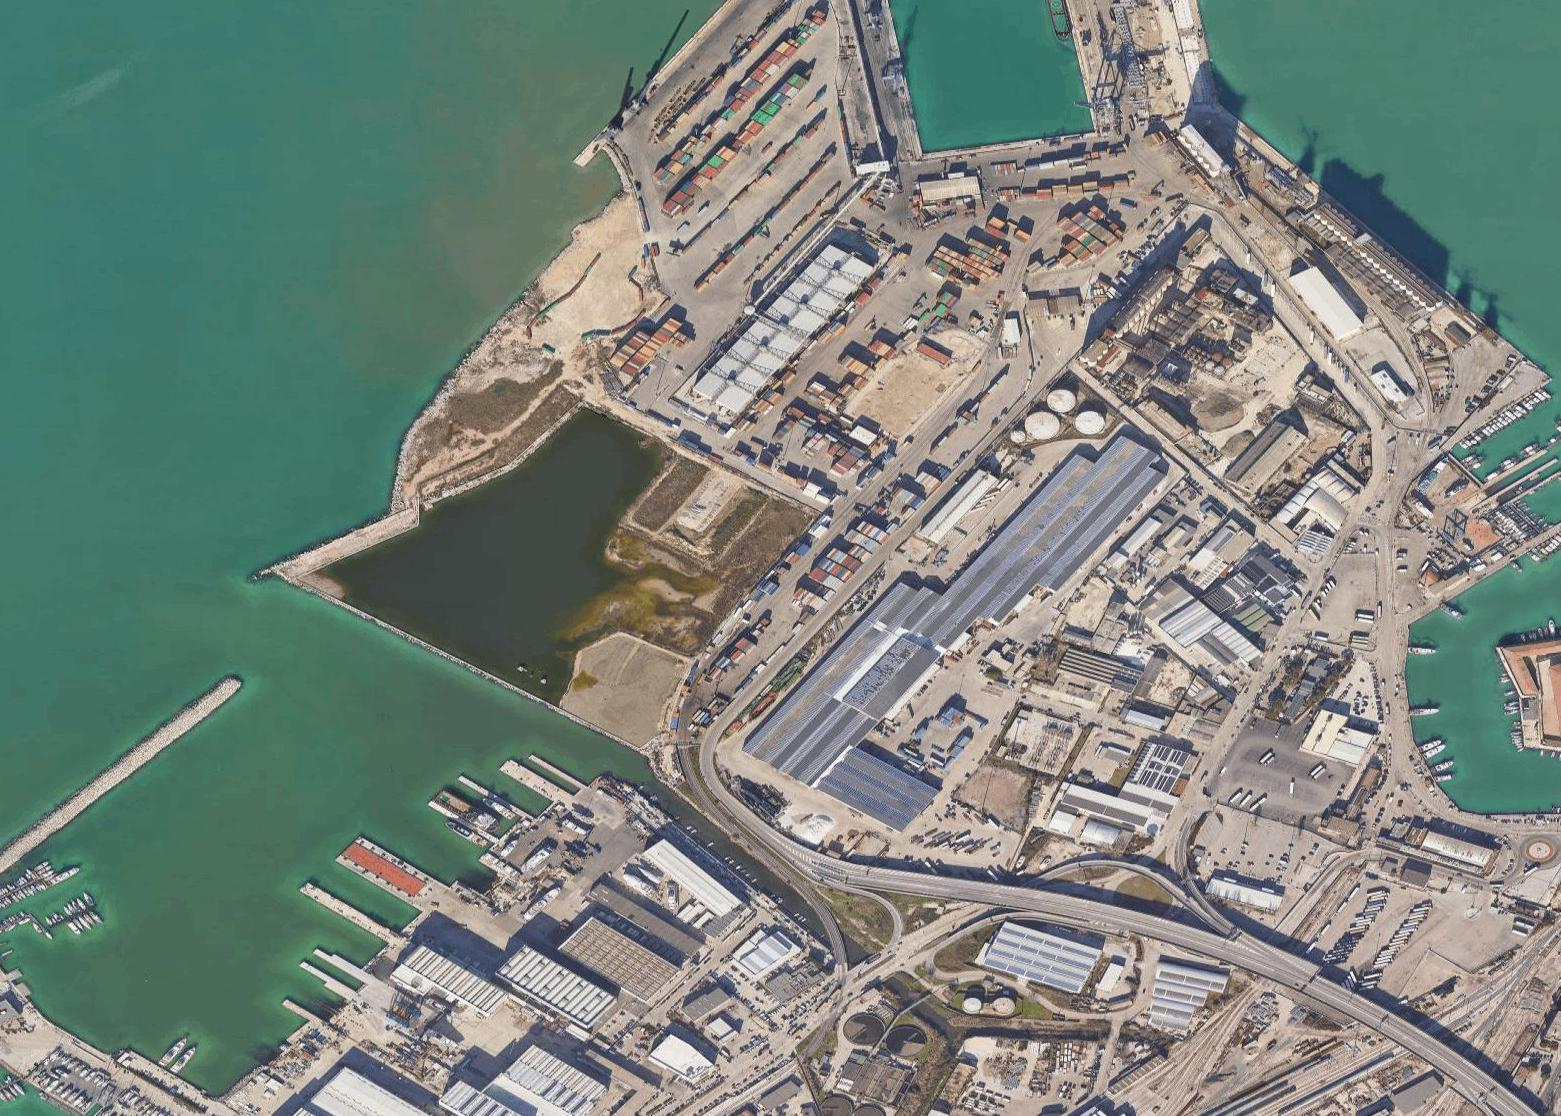harbor: (1, 7, 1561, 1091)
